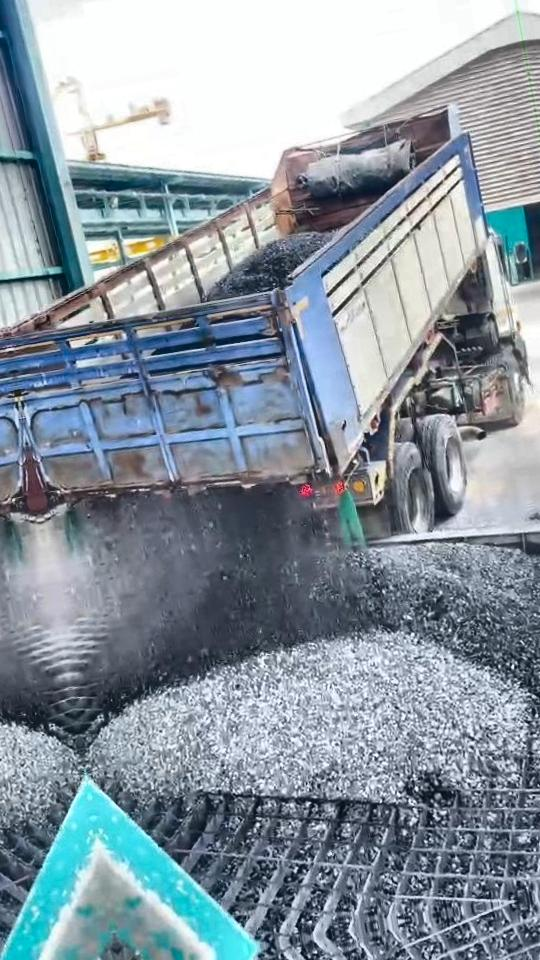gravel: (86, 631, 533, 804), (80, 488, 367, 716), (337, 544, 540, 690), (207, 232, 330, 300), (530, 491, 540, 521)
